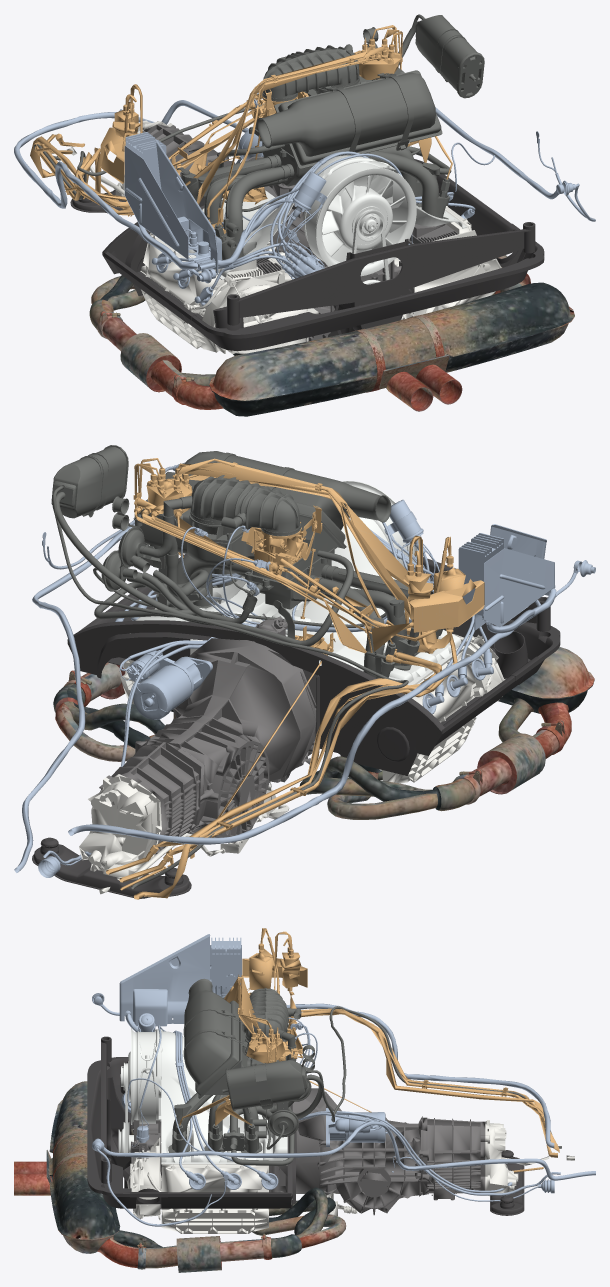
File: spare-parts.glb
3 renders of one model, top to bottom at view 1: azimuth 30°, elevation 25°; view 2: azimuth 150°, elevation 25°; view 3: azimuth 270°, elevation 25°, orthographic. The views are drawn at different scales.
Parts seen in each view (by area): view 1: Tnsms_Material.007_0, Tubo escape_Material.001_0, mesh_80_Material.003_0; view 2: Tnsms_Material.007_0, mesh_80_Material.003_0, Tubo escape_Material.001_0; view 3: Tnsms_Material.007_0, mesh_80_Material.003_0, Tubo escape_Material.001_0.
Boxes of the visible parts, box(x1,y1,x2,y2) form: Tnsms_Material.007_0: box(14, 25, 595, 354); Tubo escape_Material.001_0: box(89, 255, 574, 416); mesh_80_Material.003_0: box(33, 14, 484, 260); Tnsms_Material.007_0: box(14, 458, 595, 899); mesh_80_Material.003_0: box(51, 445, 442, 889); Tubo escape_Material.001_0: box(53, 647, 594, 819); Tnsms_Material.007_0: box(87, 928, 595, 1233); mesh_80_Material.003_0: box(168, 978, 561, 1165); Tubo escape_Material.001_0: box(14, 1081, 346, 1272).
Size of the model in its own units: 120 by 71.47 by 168.
Materials: 3 (3 with a texture image).
